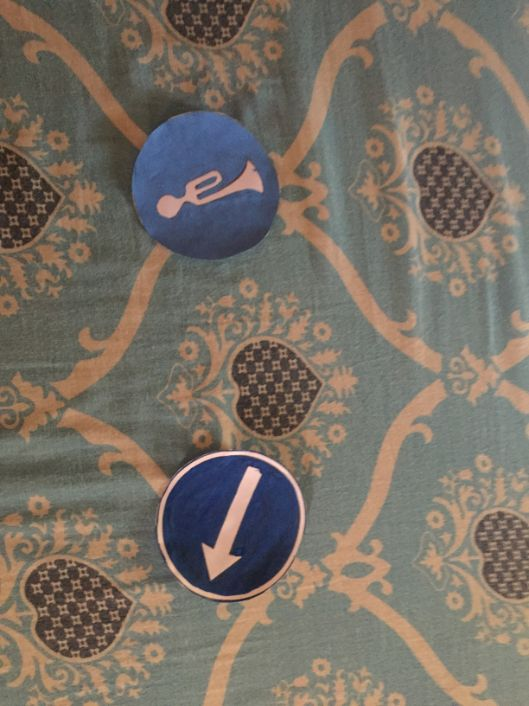blow-horn: (133, 110, 268, 245)
go-stright: (162, 453, 309, 600)
